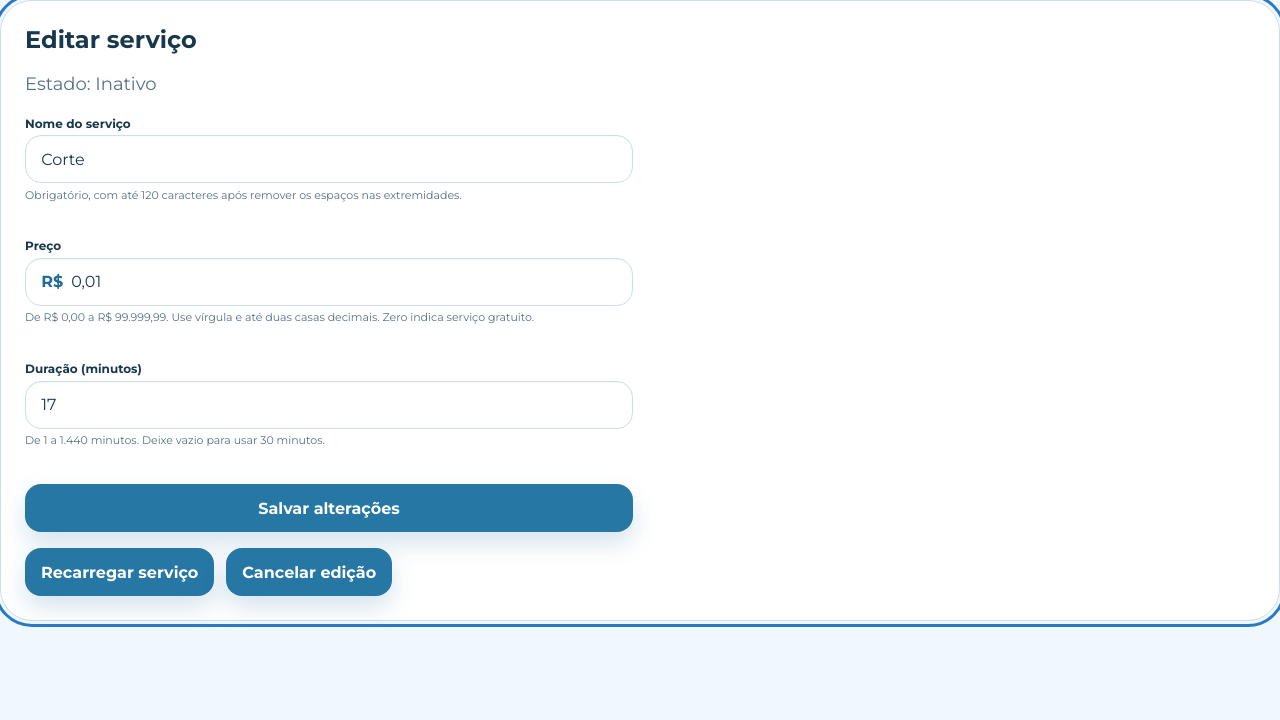
Scenario: recarga preserva nome editado sem reenviar preço alterado por outro acesso
The image size is (1280, 720).
Expected: the field labelled "Preço" is shown, [63, 259, 632, 305]
Replace the text in the field labelled "Nome do serviço" with "Novo nome": [329, 159] box [25, 135, 633, 183]
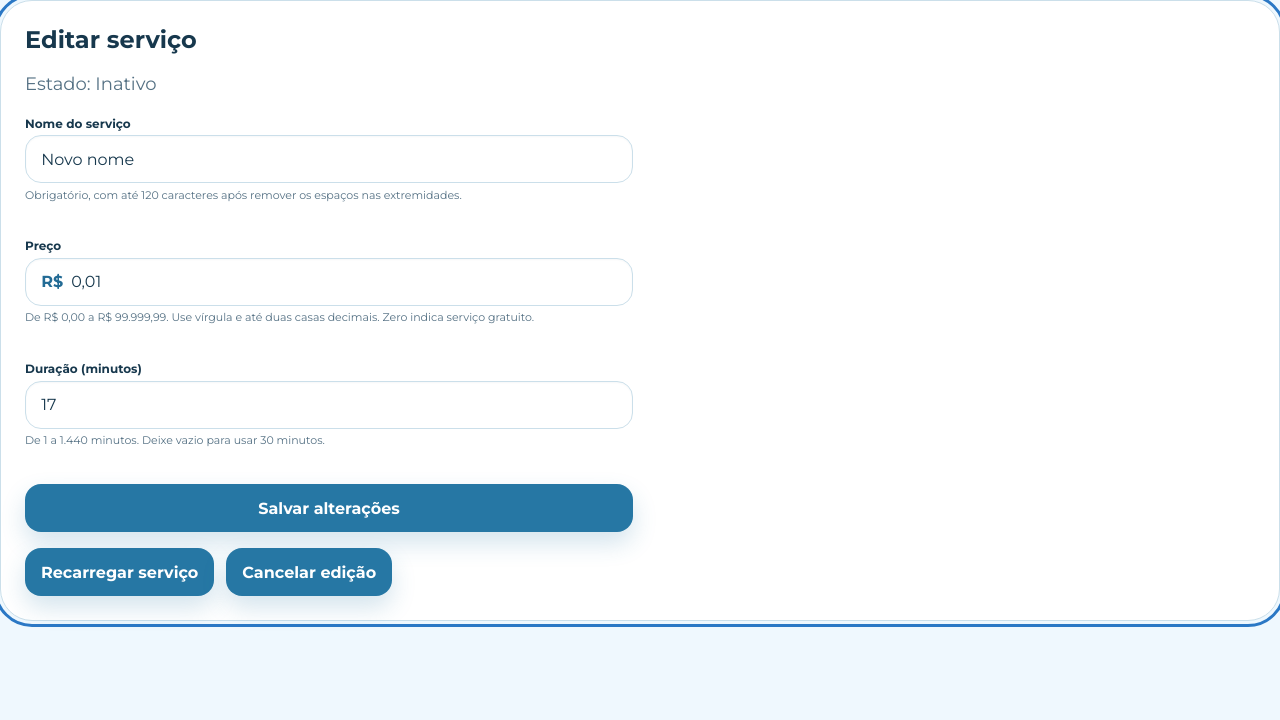
Click the button "Salvar alterações": [329, 508] box [25, 484, 633, 532]
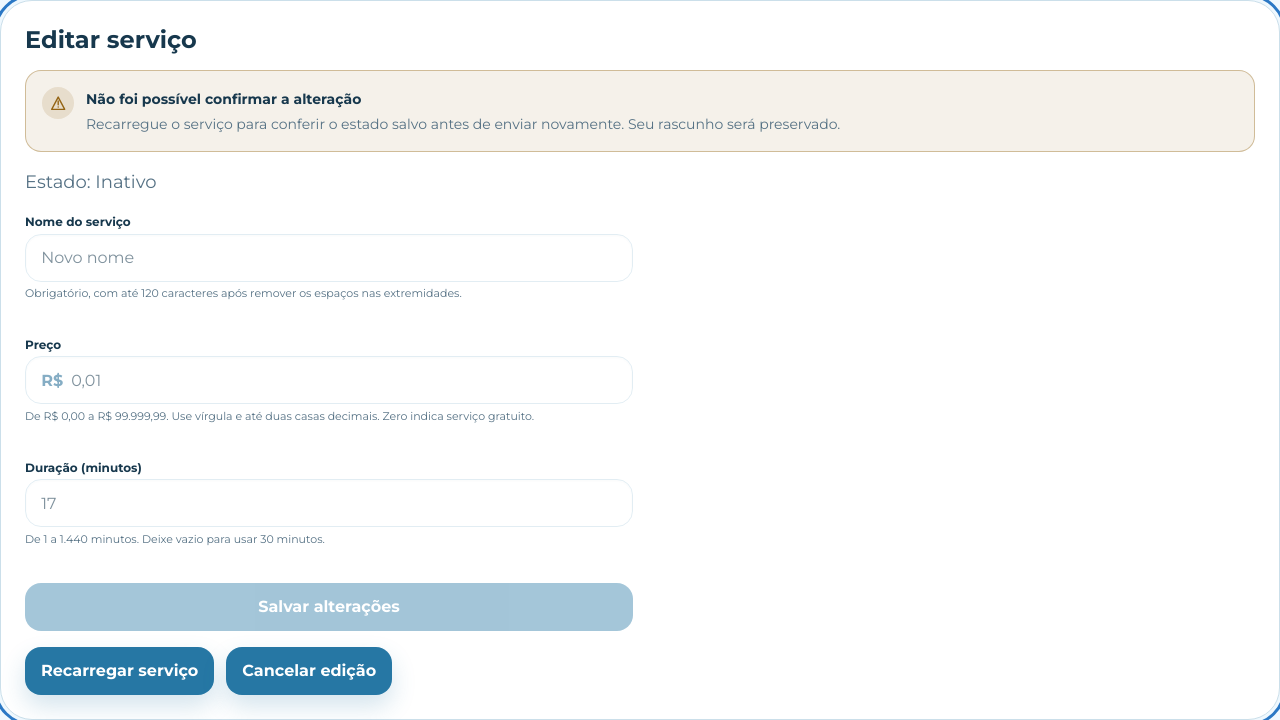
Expected: the text "Não foi possível confirmar a alteração" is shown, [86, 90, 361, 108]
Click the button "Recarregar serviço": [120, 670] box [25, 646, 214, 694]
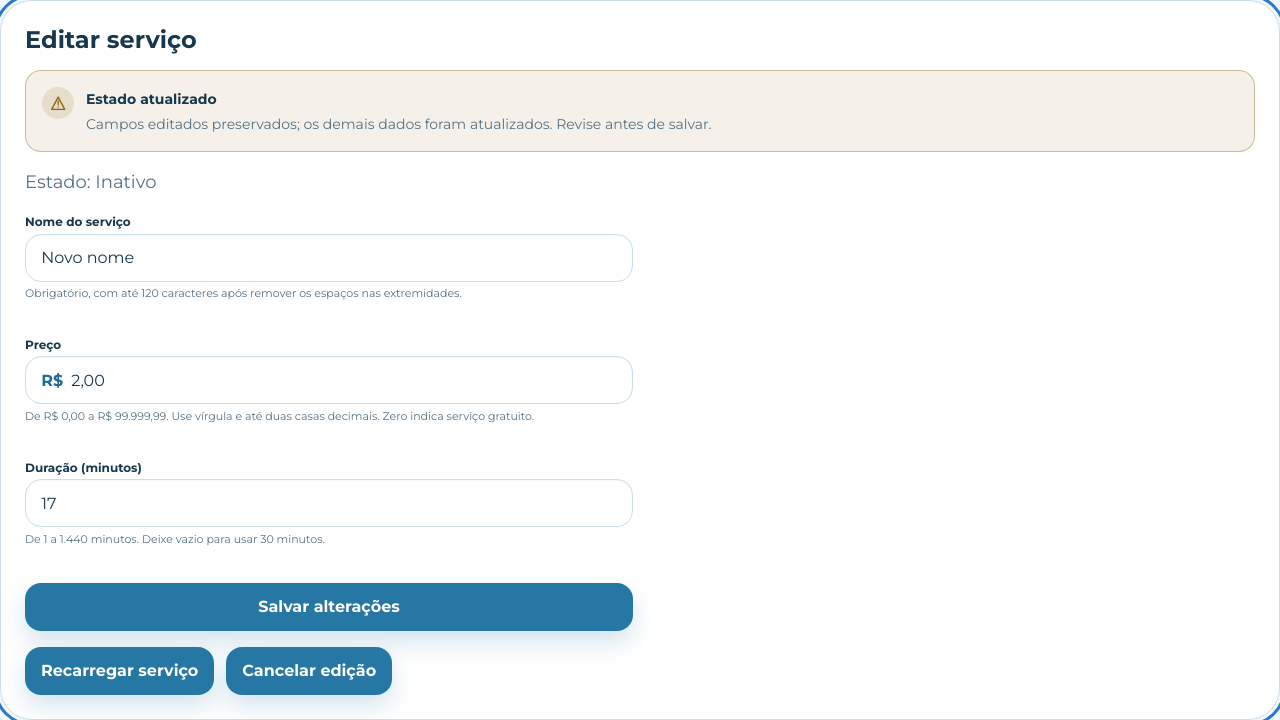
Expected: the button "Salvar alterações" is enabled
Expected: the field labelled "Preço" holds "2,00", [63, 357, 632, 403]
Click the button "Salvar alterações": [329, 606] box [25, 582, 633, 630]
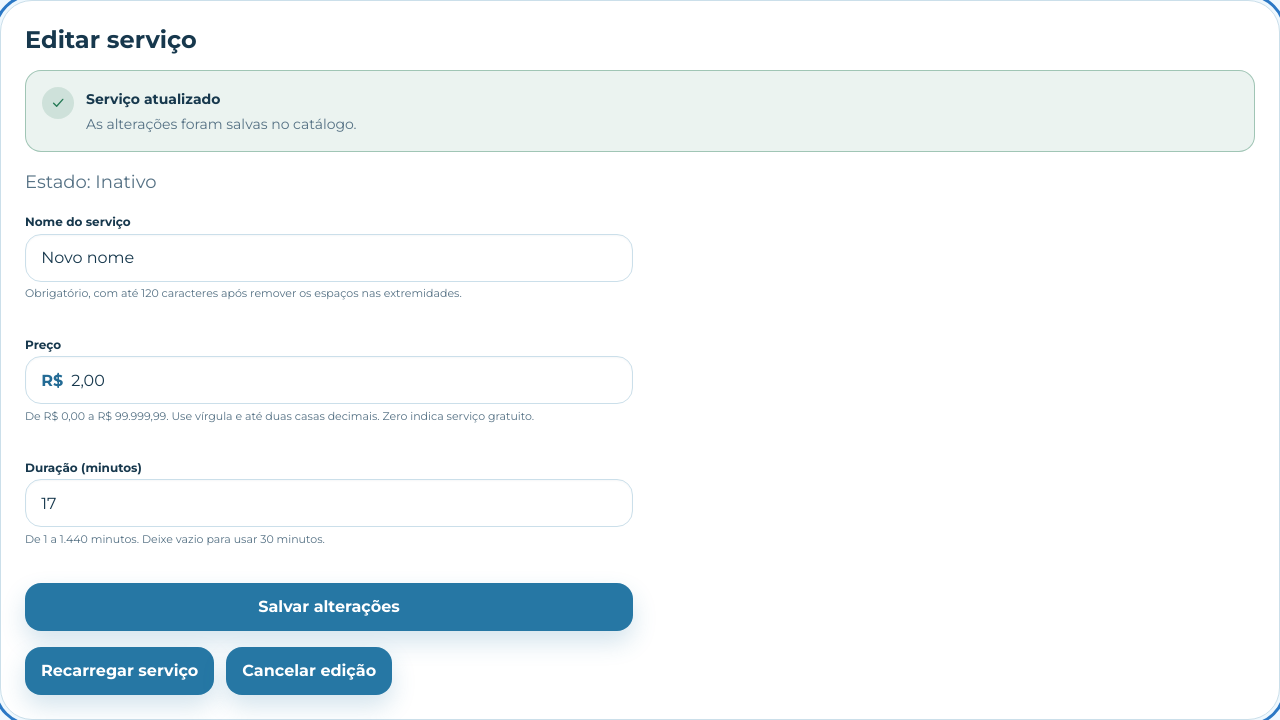
Expected: the text "Serviço atualizado" is shown, [86, 90, 220, 108]
